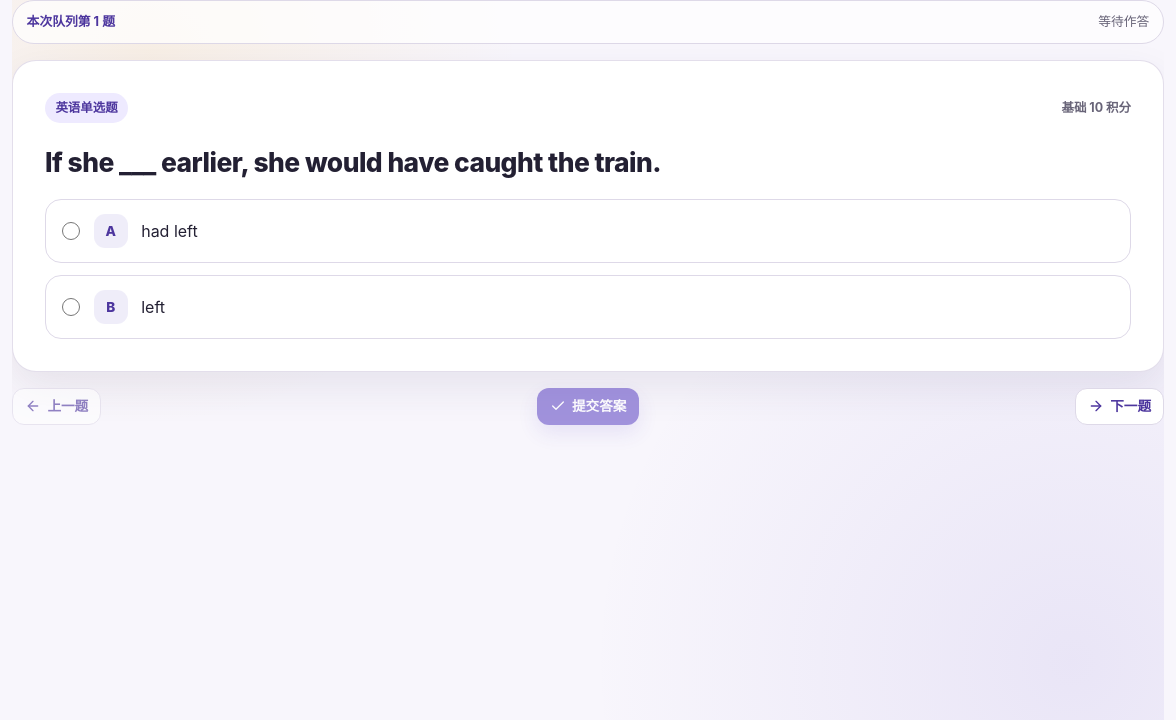
it: 随机练习队列 › 队尾新题延迟返回时，用户已返回上一题则不会被响应抢走导航
The width and height of the screenshot is (1176, 720).
Expected: the text "If she ___ earlier, she would have caught the train." is shown, [45,146,661,178]
Click the button "下一题": (1119, 406) [1075,388,1164,425]
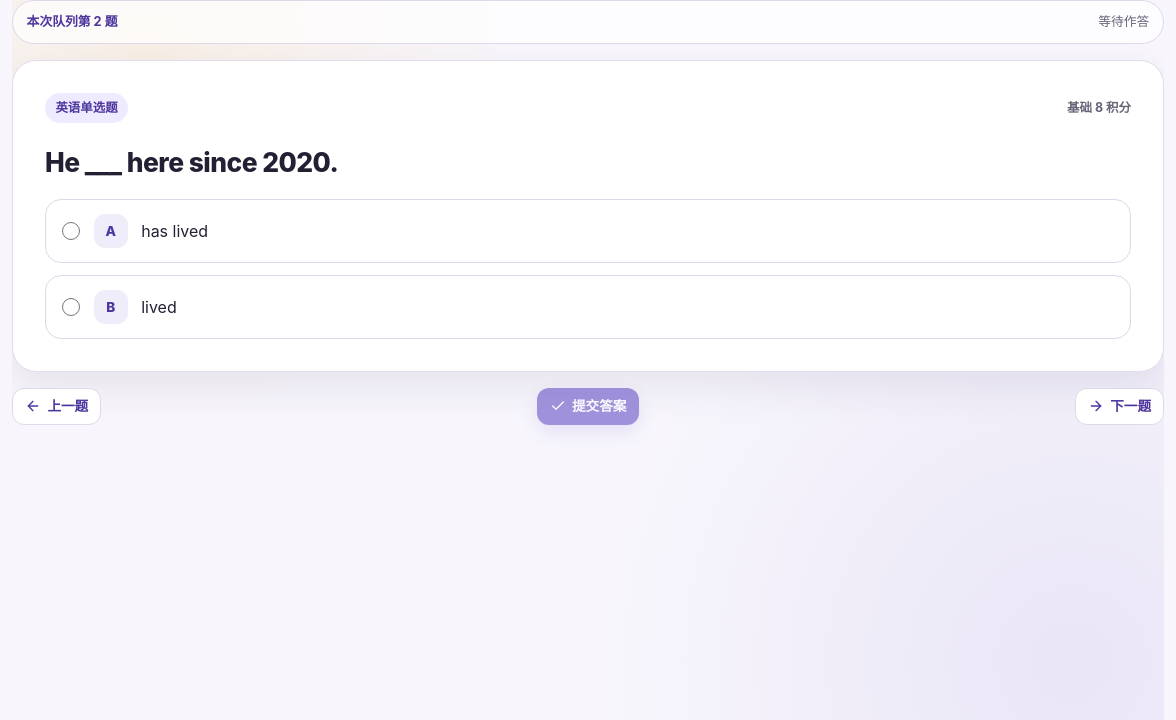
Expected: the text "He ___ here since 2020." is shown, [45,146,338,178]
Click the button "下一题": (1119, 406) [1075,388,1164,425]
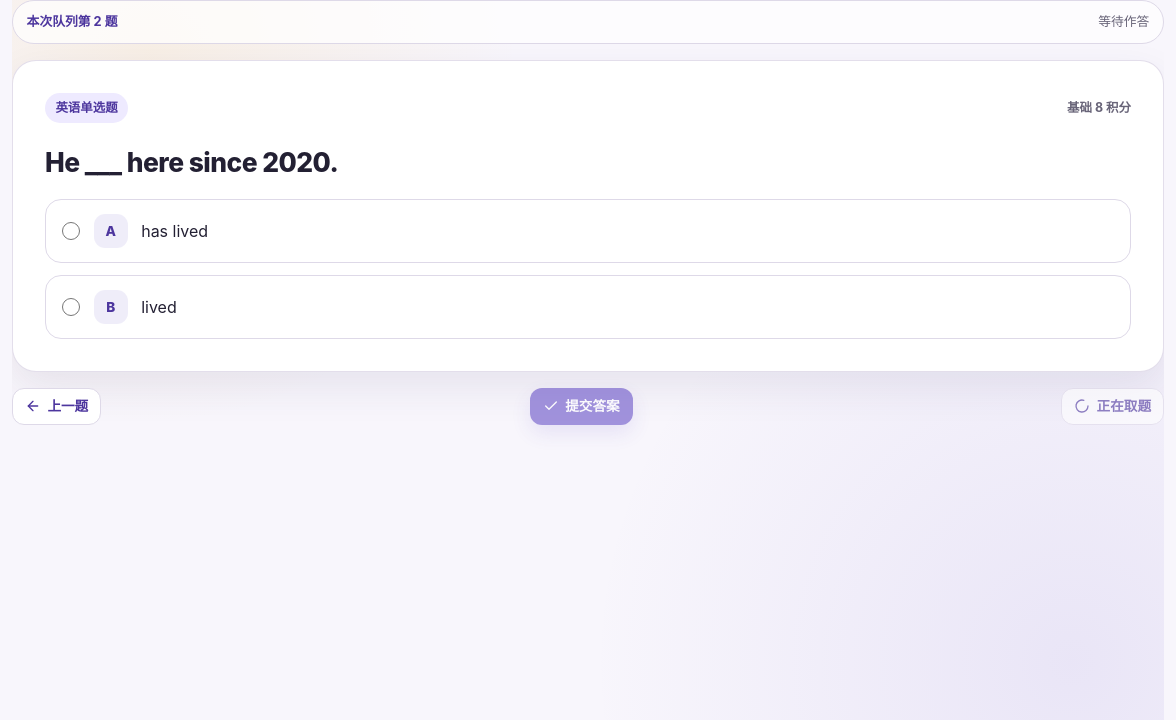
Click the button "上一题": (57, 406) [12,388,101,425]
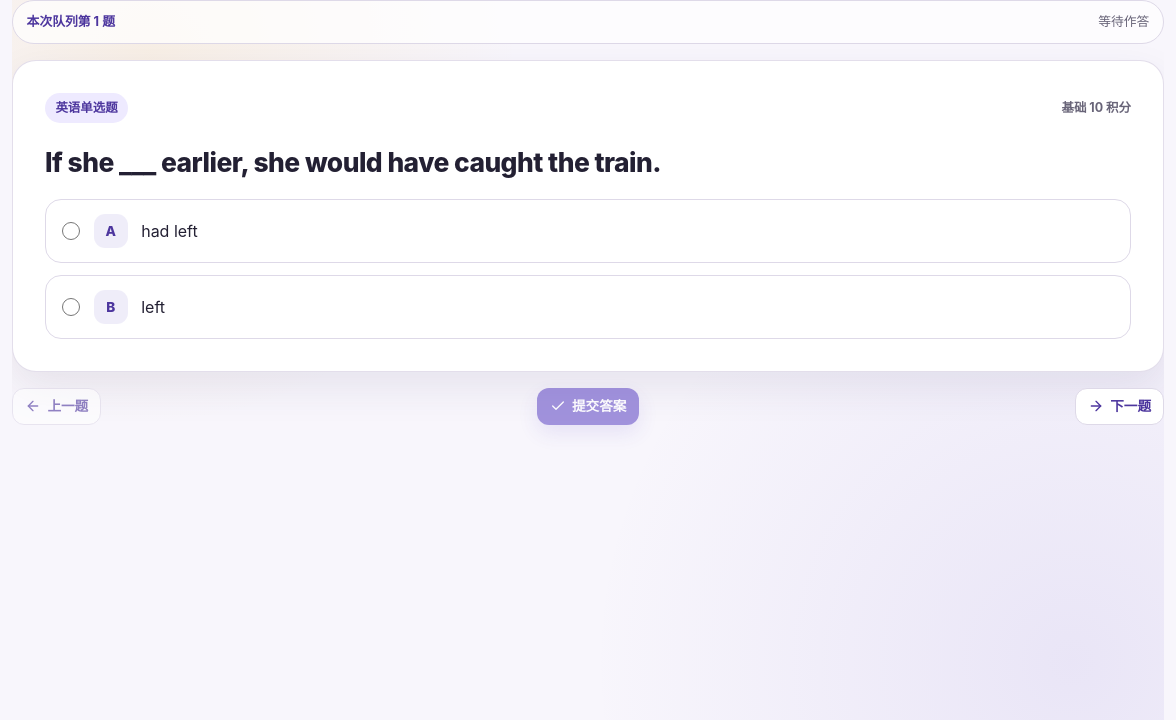
Expected: the button "下一题" is enabled, [1075,388,1164,425]
Expected: the text "If she ___ earlier, she would have caught the train." is shown, [45,146,661,178]
